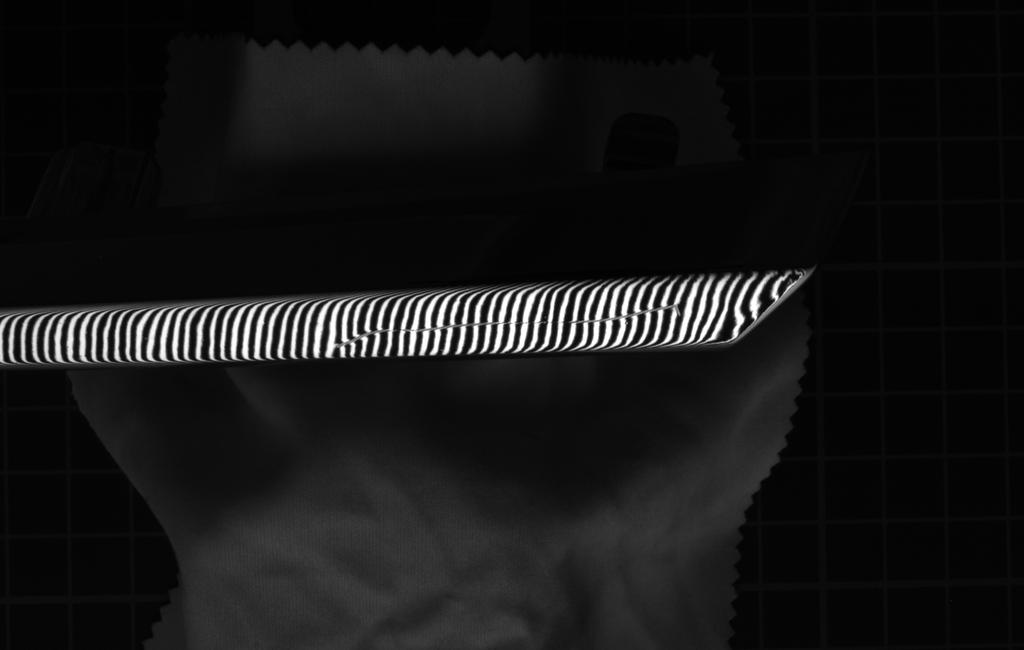Scratch: (319, 292, 697, 354)
